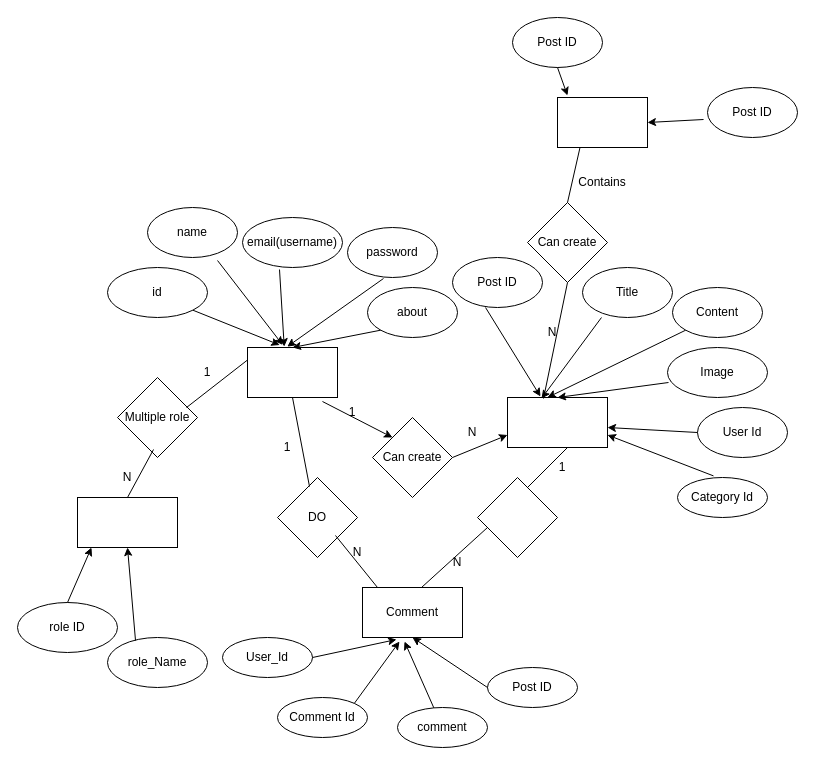
Some shapes in this 815 by 765 pixel diagram are drawn without their labels. Here are the shapes that lost their labels. From the top down, the centre of each, then its label:
At point 602,122: "Category".
At point 292,372: "user".
At point 557,422: "Post".
At point 127,522: "Role".
At point 517,517: "Have".
